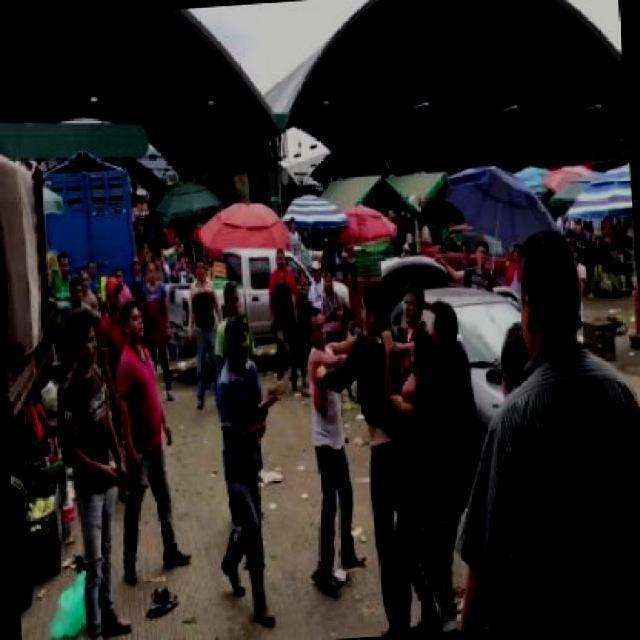fight: (300, 283, 423, 639)
